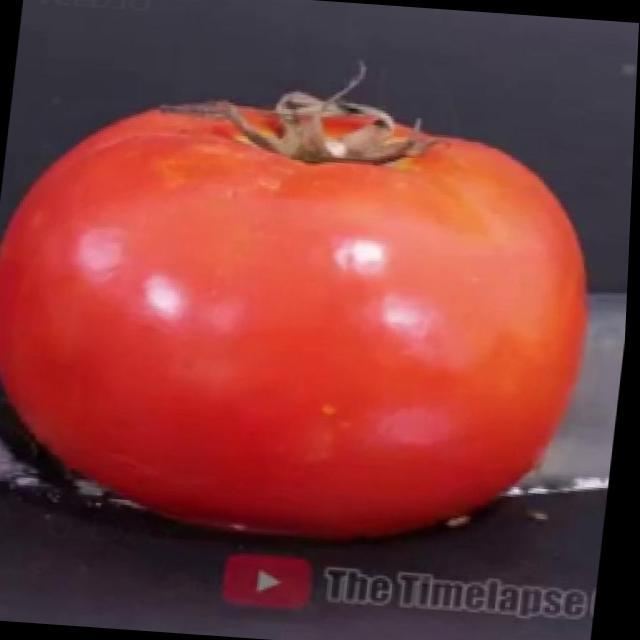tomato: (0, 103, 591, 541)
